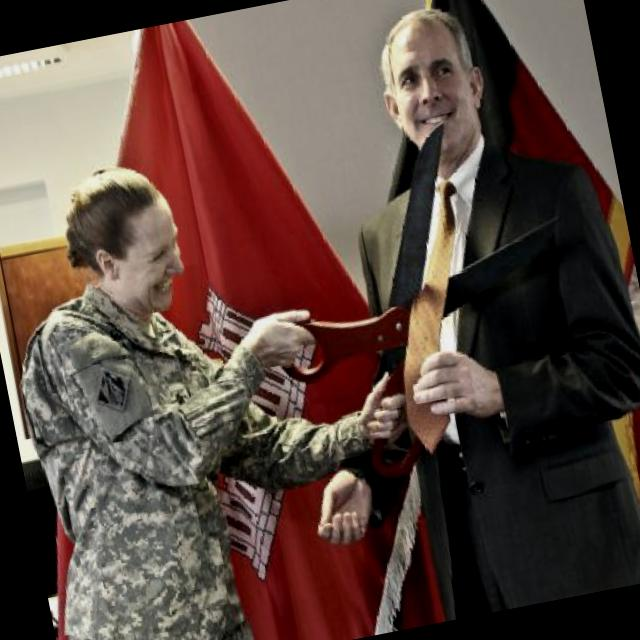Person: (225, 0, 640, 633), (0, 118, 451, 640)
